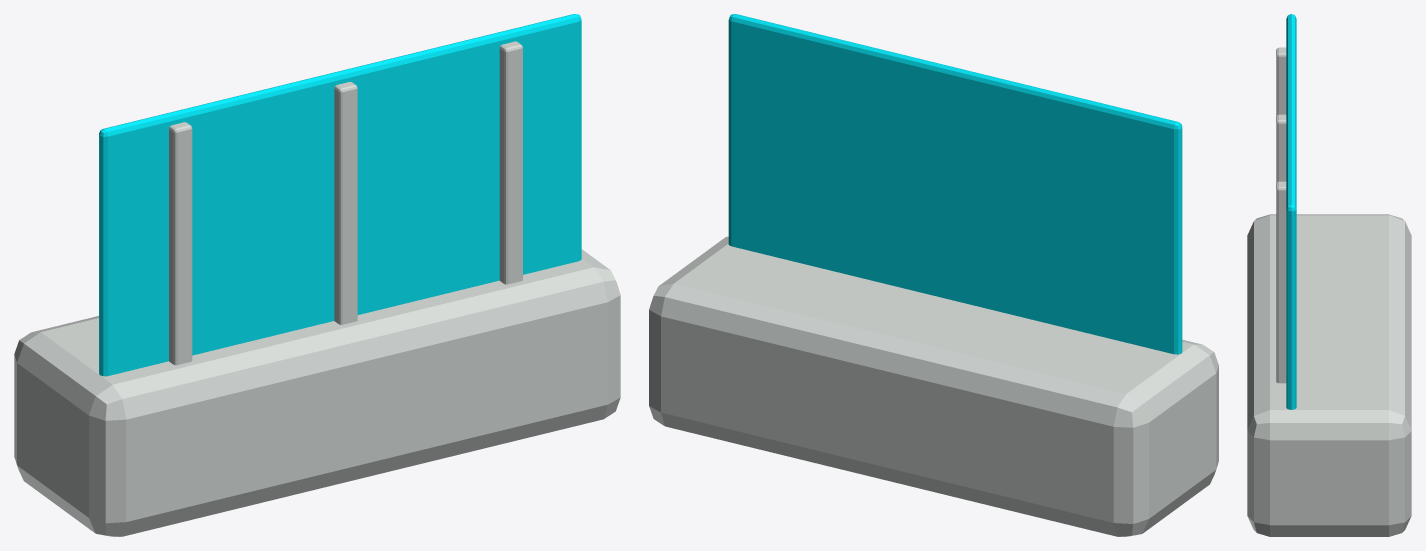
File: LPK_Cockpit_ViewWindow_4m.fbx
3 renders of one model, left to right at view 1: azimuth 30°, elevation 25°; view 2: azimuth 150°, elevation 25°; view 3: azimuth 270°, elevation 25°, orthographic. The views are drawn at different scales.
Visible parts, largest first — view 1: CockpitGlass, CockpitSill, CockpitMullion.002, CockpitMullion, CockpitMullion.001; view 2: CockpitSill, CockpitGlass; view 3: CockpitSill, CockpitGlass, CockpitMullion.002, CockpitMullion.001, CockpitMullion.
Boxes of the visible parts, x1,y1,x2,y2 form: CockpitGlass: (99,14,581,376); CockpitSill: (14,249,620,536); CockpitMullion.002: (499,41,522,284); CockpitMullion: (169,122,192,365); CockpitMullion.001: (334,82,357,324); CockpitSill: (649,236,1218,536); CockpitGlass: (728,14,1182,354); CockpitSill: (1247,214,1411,536); CockpitGlass: (1286,14,1296,409); CockpitMullion.002: (1276,181,1286,383); CockpitMullion.001: (1276,114,1286,183); CockpitMullion: (1276,47,1286,116).
Bounding box in the file's own units: 4 × 2.87 × 1.3.
